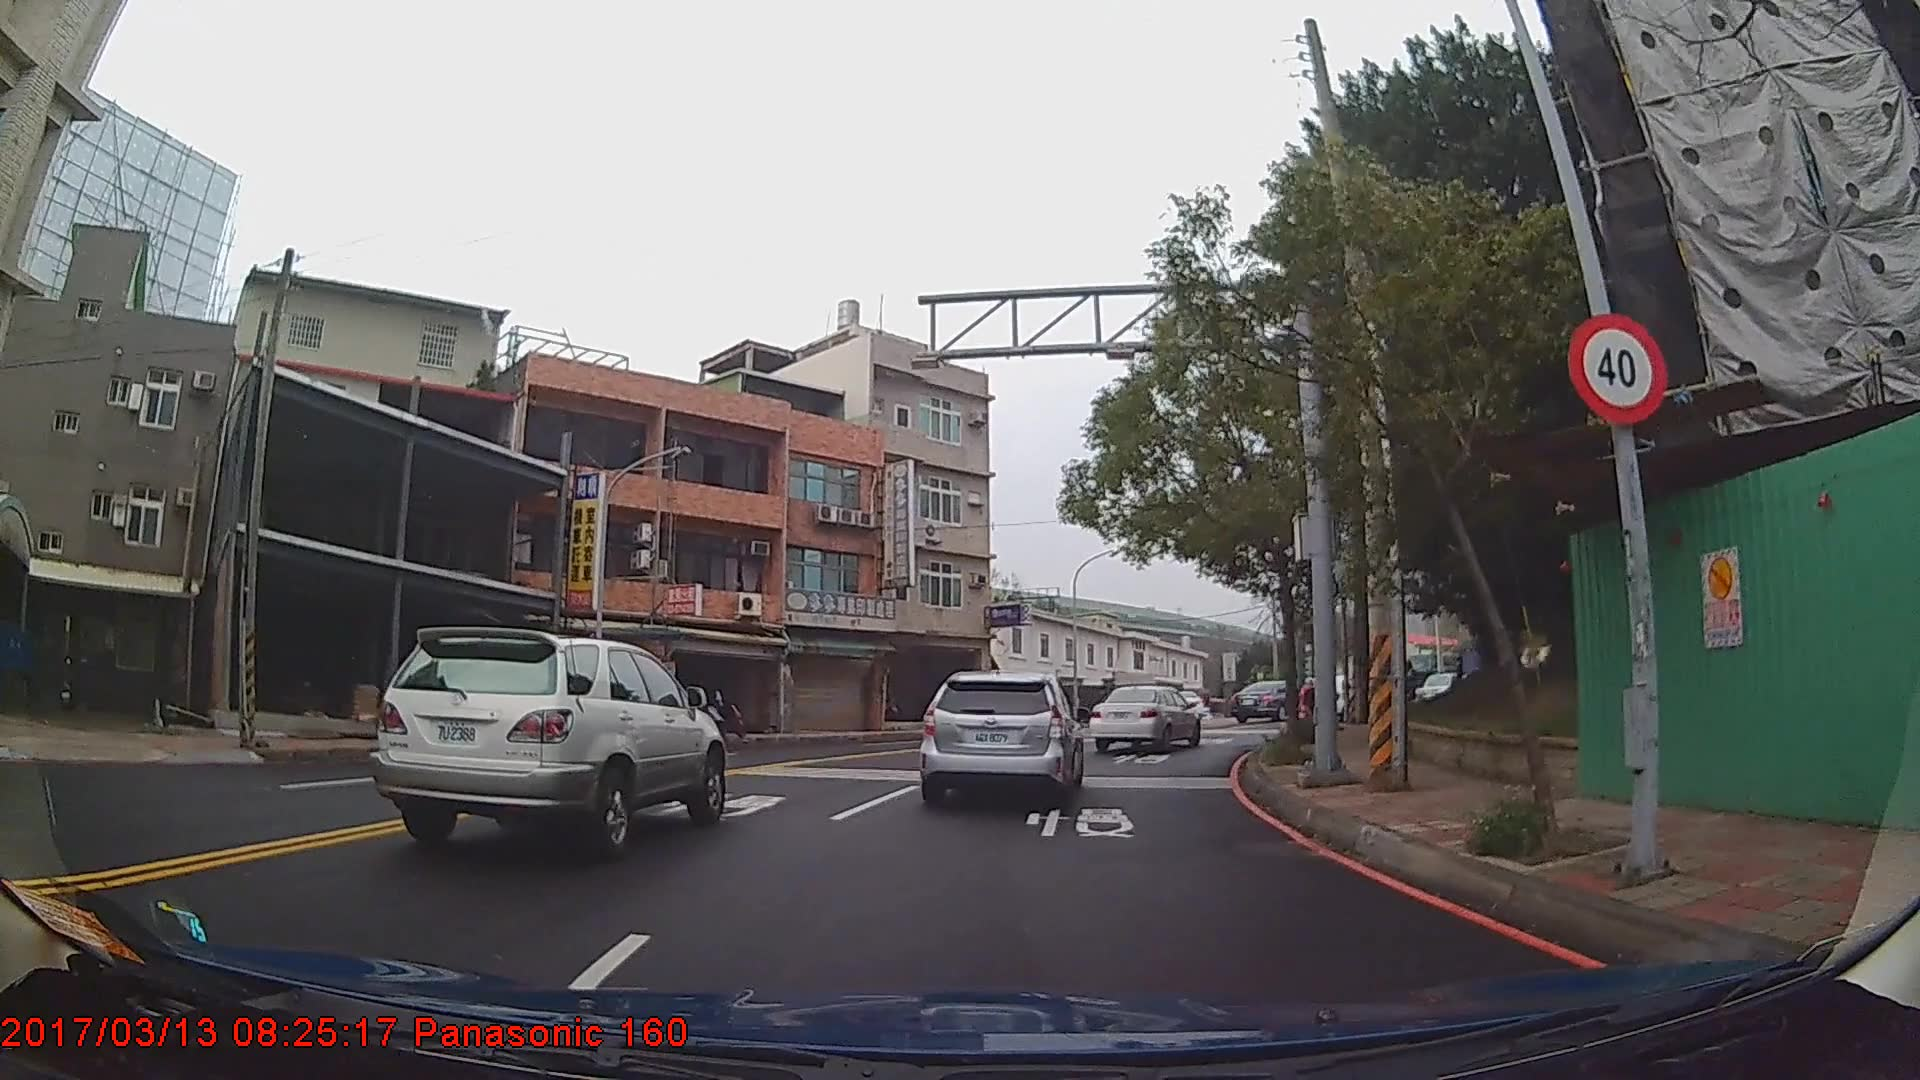vehicle: (367, 625, 727, 857), (919, 669, 1085, 806), (1088, 684, 1203, 752), (1226, 678, 1305, 723)
